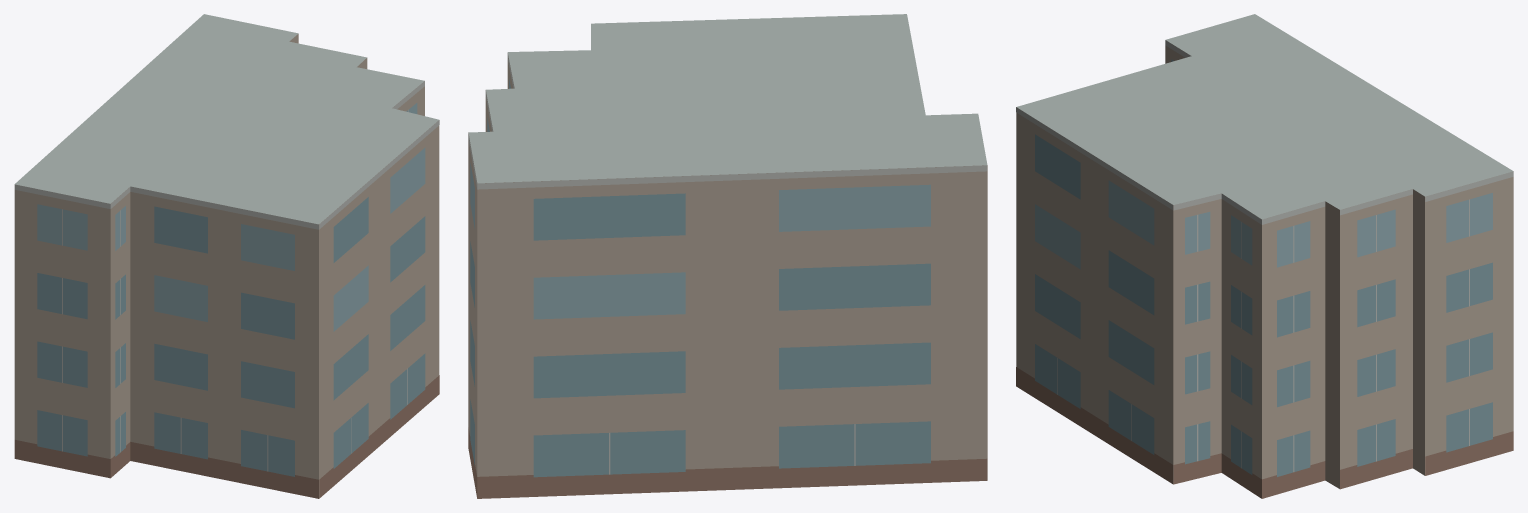
File: survey-upis-32936681.glb
3 views of the same model, side by side, from view 1: azimuth 30°, elevation 25°; view 2: azimuth 150°, elevation 25°; view 3: azimuth 270°, elevation 25° (orthographic). The views are drawn at different scales.
Parts seen in each view (by area): view 1: survey-upis-32936681.tmp; view 2: survey-upis-32936681.tmp; view 3: survey-upis-32936681.tmp.
Boxes of the visible parts, x1=… form: survey-upis-32936681.tmp: x1=14, y1=14, x2=439, y2=498; survey-upis-32936681.tmp: x1=468, y1=14, x2=987, y2=498; survey-upis-32936681.tmp: x1=1016, y1=14, x2=1513, y2=498.
Size of the model in its own units: 19.74 by 12.5 by 20.19.
